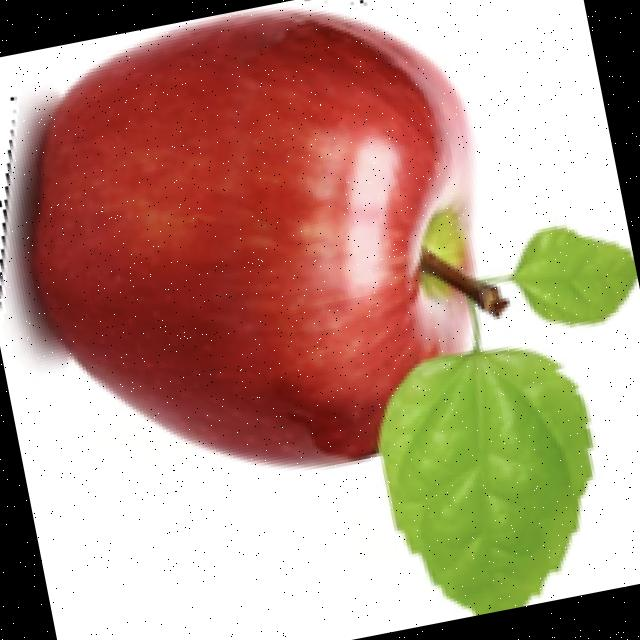apple: (0, 0, 599, 616)
